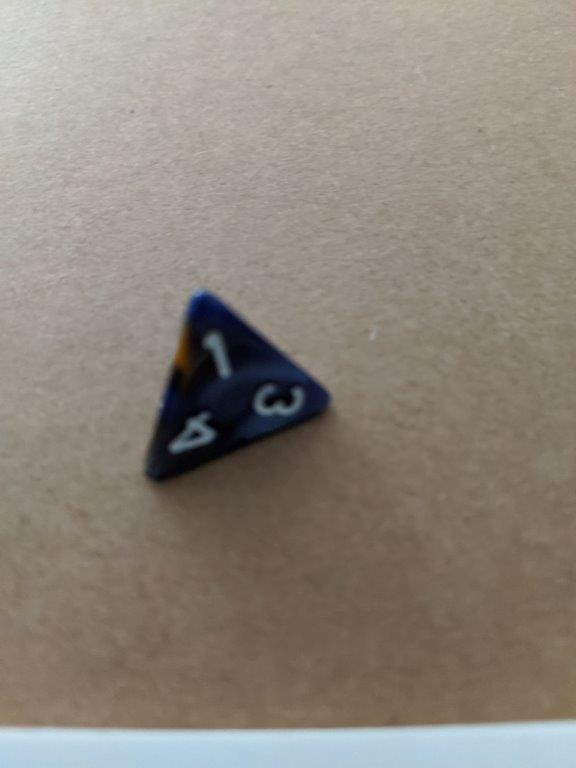d4-1: (138, 286, 335, 492)
